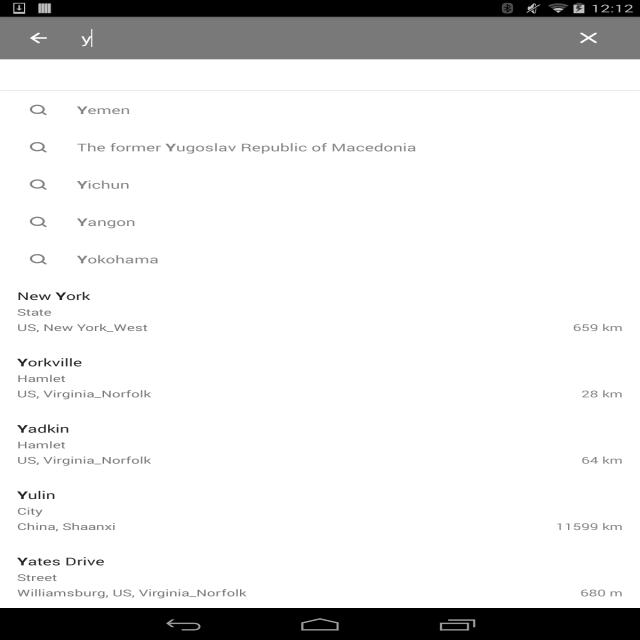EditText: (77, 26, 554, 50)
ImageButton: (9, 17, 68, 59)
ImageView: (555, 17, 623, 59), (147, 96, 173, 112), (467, 96, 493, 112)
TextView: (0, 209, 640, 247), (0, 91, 640, 129), (0, 203, 640, 241), (0, 135, 640, 172), (0, 172, 640, 209), (0, 129, 640, 166), (0, 166, 640, 203), (0, 241, 640, 278), (17, 421, 623, 436), (17, 289, 623, 303), (17, 355, 623, 369), (17, 488, 623, 502), (17, 554, 623, 568), (17, 387, 573, 400), (17, 586, 572, 599), (17, 321, 564, 334), (17, 520, 547, 533), (17, 454, 573, 466), (556, 520, 623, 533), (441, 118, 518, 128), (573, 321, 623, 334), (17, 372, 66, 385), (17, 438, 66, 451), (580, 586, 623, 599), (581, 387, 623, 400), (132, 118, 186, 128), (17, 571, 57, 584), (581, 454, 623, 466), (17, 306, 52, 318), (17, 505, 43, 517)
